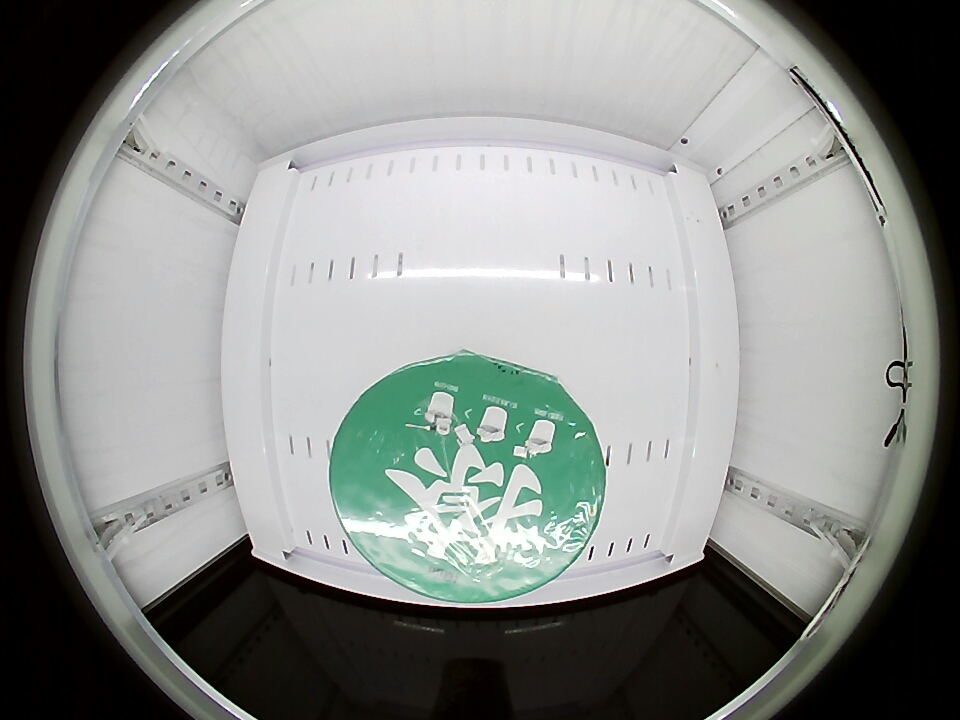liaomian: (329, 352, 608, 604)
